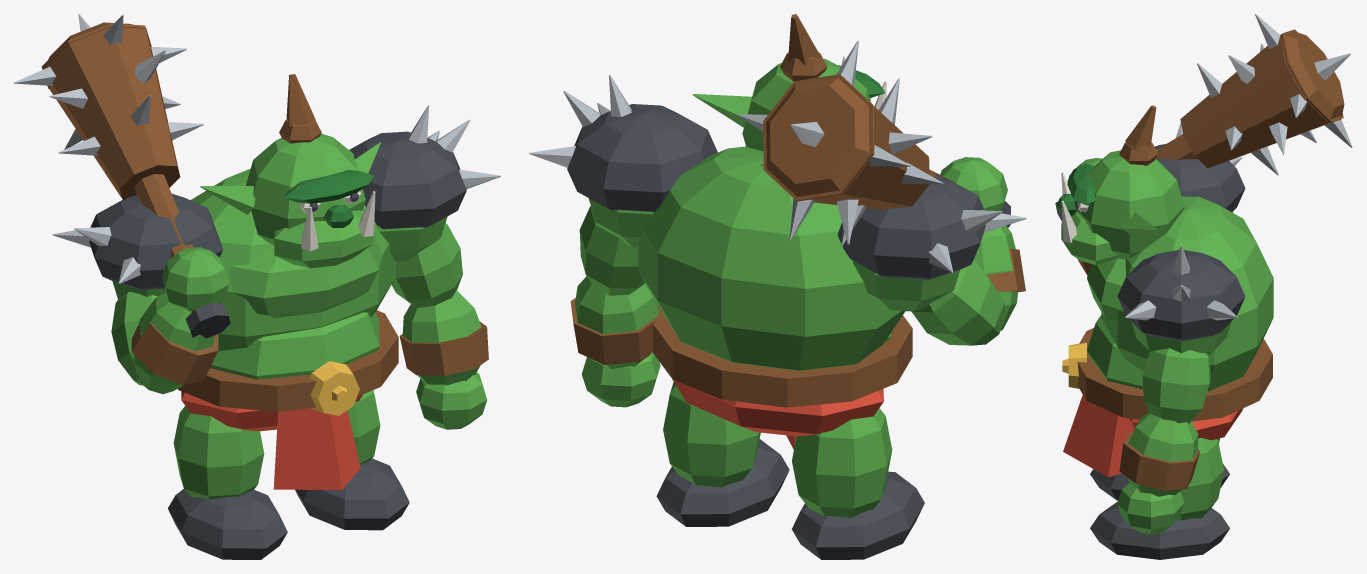
Rendered from low-poly-orc-brute.glb.
3 views of the same model, side by side, from view 1: azimuth 30°, elevation 25°; view 2: azimuth 150°, elevation 25°; view 3: azimuth 270°, elevation 25° (orthographic). The views are drawn at different scales.
Parts seen in each view (by area): view 1: Orc_Brute; view 2: Orc_Brute; view 3: Orc_Brute.
Part boxes in pixels (box(x1,y1,x2,y2)): Orc_Brute: box(14, 14, 500, 559); Orc_Brute: box(529, 14, 1026, 559); Orc_Brute: box(1055, 14, 1352, 559).
Bounding box in the file's own units: 6.82 × 8.22 × 4.87.
